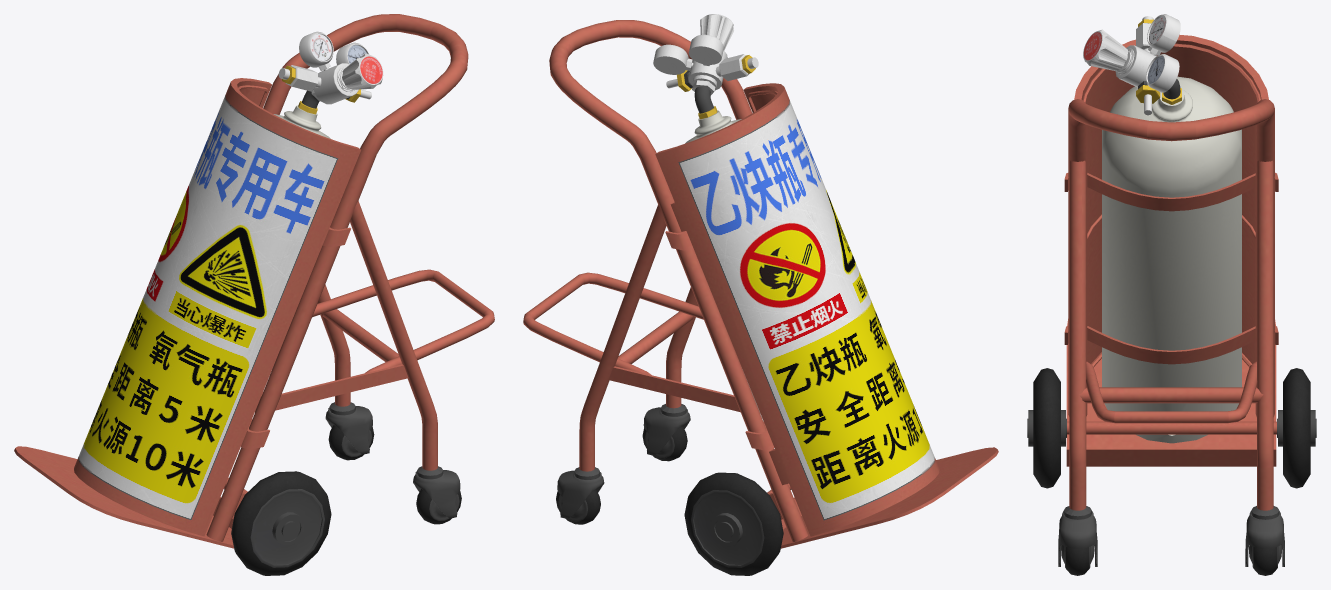
File: SM_乙钢瓶 1.fbx
3 views of the same model, side by side, from view 1: azimuth 30°, elevation 25°; view 2: azimuth 150°, elevation 25°; view 3: azimuth 270°, elevation 25° (orthographic). The views are drawn at different scales.
Visible parts, largest first — view 1: SM_乙钢瓶; view 2: SM_乙钢瓶; view 3: SM_乙钢瓶.
Part boxes in pixels (x1=…): SM_乙钢瓶: x1=14, y1=14, x2=494, y2=575; SM_乙钢瓶: x1=523, y1=14, x2=998, y2=575; SM_乙钢瓶: x1=1027, y1=14, x2=1316, y2=575.
Bounding box in the file's own units: 1.1 × 1.2 × 0.6097.
